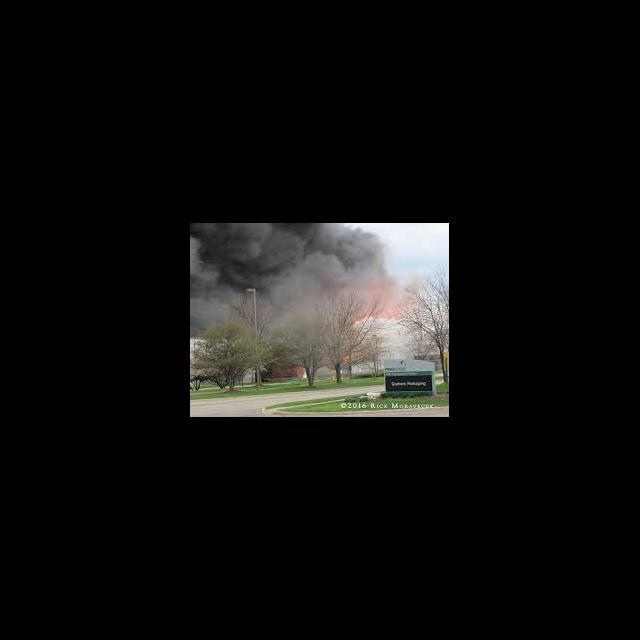Fire: (352, 310, 403, 327), (341, 348, 356, 367)
Smoke: (191, 224, 395, 308)
